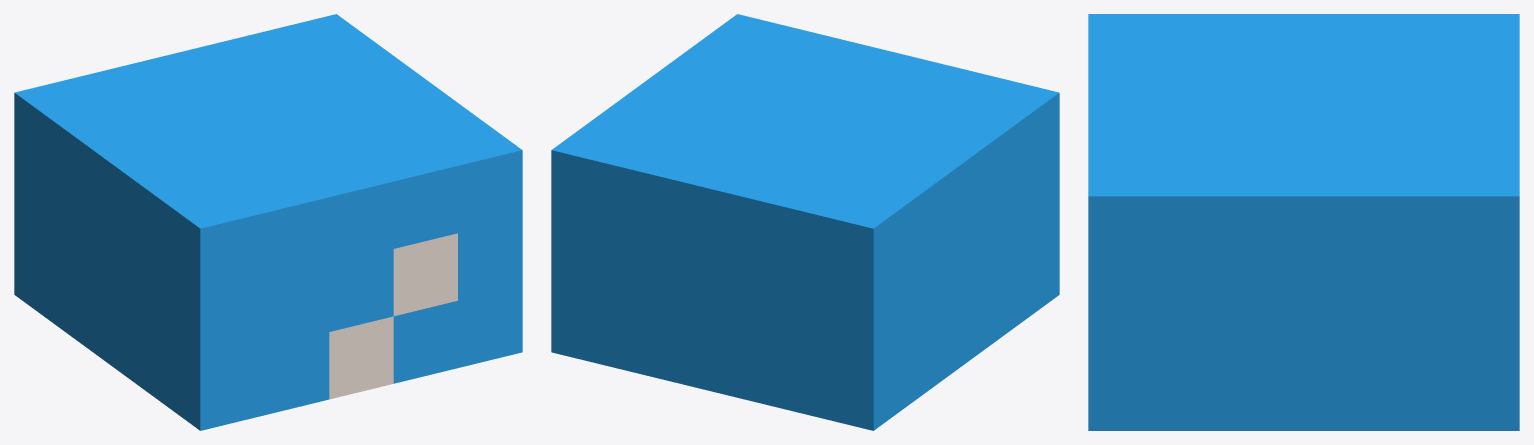
Rendered from blob_b_walk_2.obj.
The picture shows the model from 3 angles, left to right: view 1: azimuth 30°, elevation 25°; view 2: azimuth 150°, elevation 25°; view 3: azimuth 270°, elevation 25°; orthographic projection. The views are drawn at different scales.
Bounding box in the file's own units: 0.5 × 0.3 × 0.5.
1 material, 1 textured.
